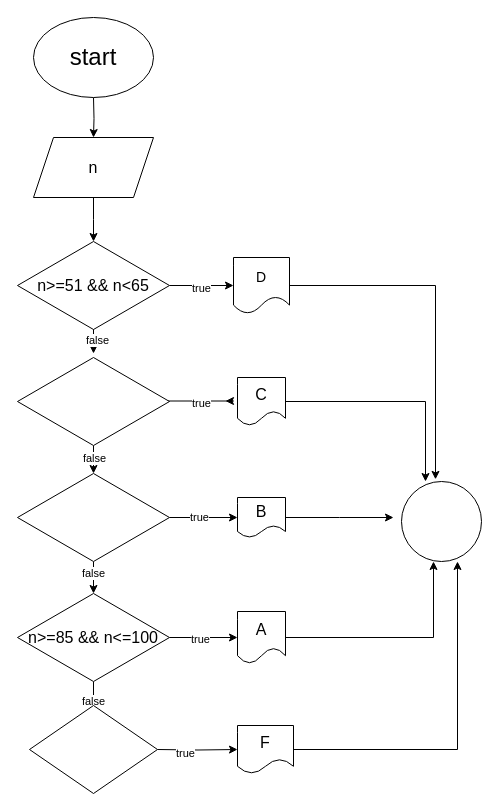
Image size: 499x811. Some labels were removed from this diagram. The box of each missing label's shape, as (x1, y1, x2, y2) in pixels:
n<51 || n>100: (28, 704, 158, 794)
n>=65 && n<75: (16, 356, 170, 446)
n>=75 && n<85: (16, 472, 170, 562)
NETICE: (400, 480, 482, 562)
